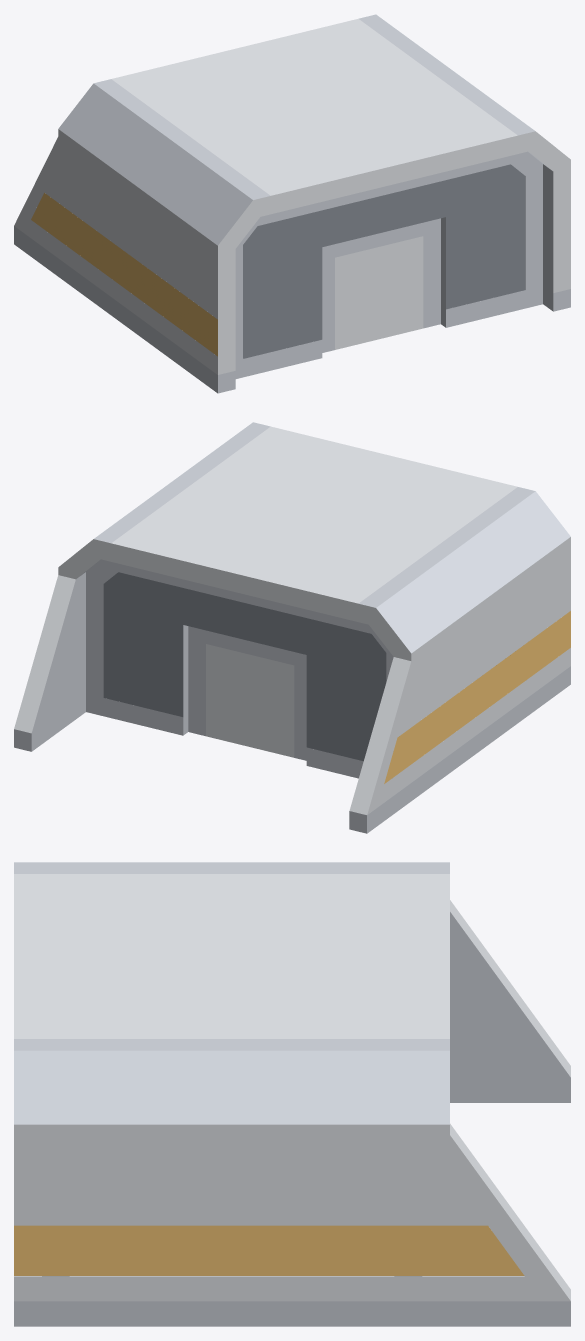
File: hangar_smallB.glb
The picture shows the model from 3 angles, top to bottom: view 1: azimuth 30°, elevation 25°; view 2: azimuth 150°, elevation 25°; view 3: azimuth 270°, elevation 25°; orthographic projection. The views are drawn at different scales.
Parts seen in each view (by area): view 1: hangar_smallB, gate; view 2: hangar_smallB, gate; view 3: hangar_smallB.
Boxes of the visible parts, x1,y1,x2,y2 form: hangar_smallB: [14, 14, 570, 393]; gate: [243, 164, 525, 358]; hangar_smallB: [14, 422, 570, 833]; gate: [103, 572, 386, 761]; hangar_smallB: [14, 862, 570, 1326].
Bounding box in the file's own units: 2 × 1 × 2.
